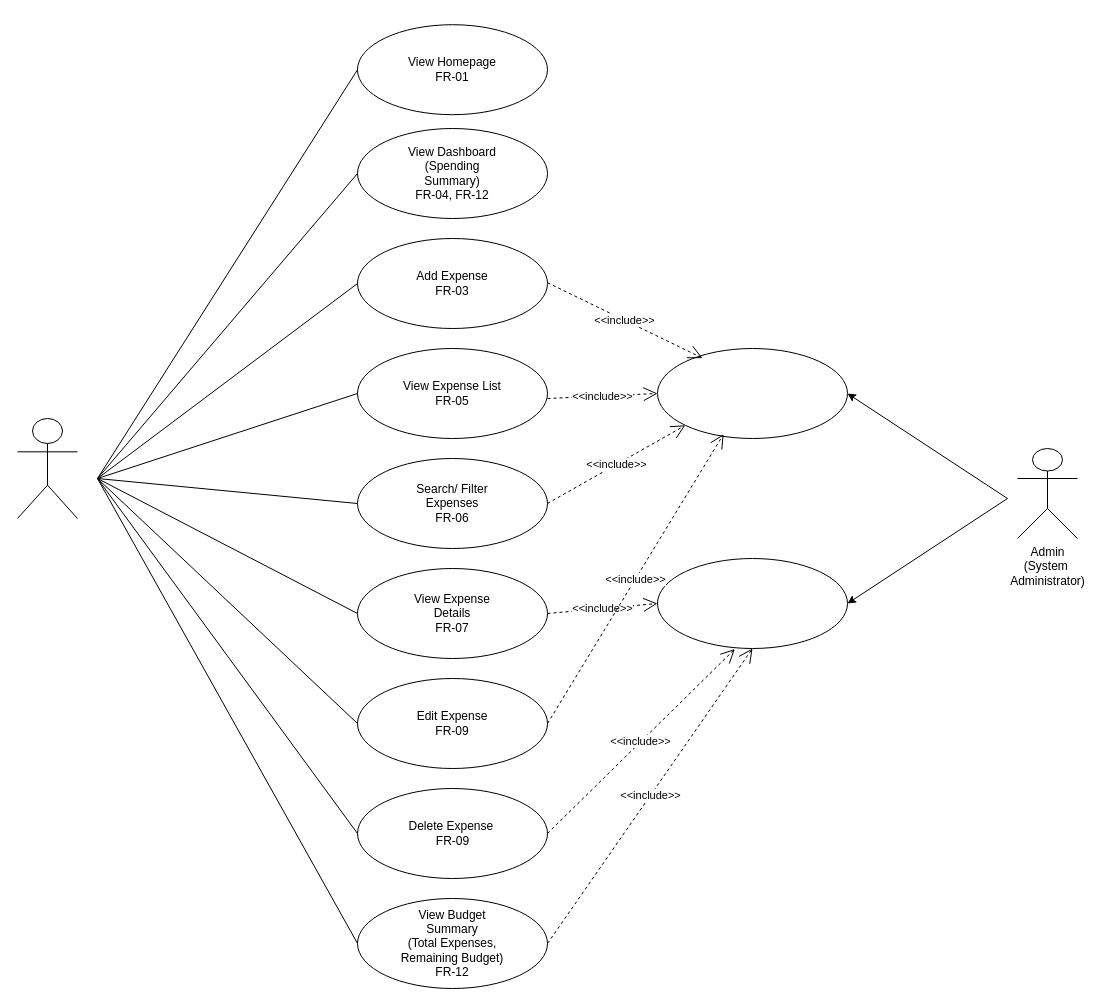
This 1102x1007 diagram has some shape labels left out. Here are the shapes that lost their labels. From the top down, the box of each, then its label:
(656, 348, 848, 438): Manage Expense Records FR-08, FR-09
(16, 418, 78, 518): USER (University Student)
(656, 558, 848, 648): Update Budget Status FR-10
